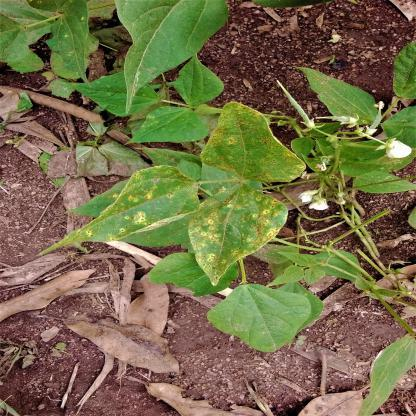Beans_Rust: (44, 160, 200, 250), (189, 183, 290, 284), (200, 102, 306, 182)
